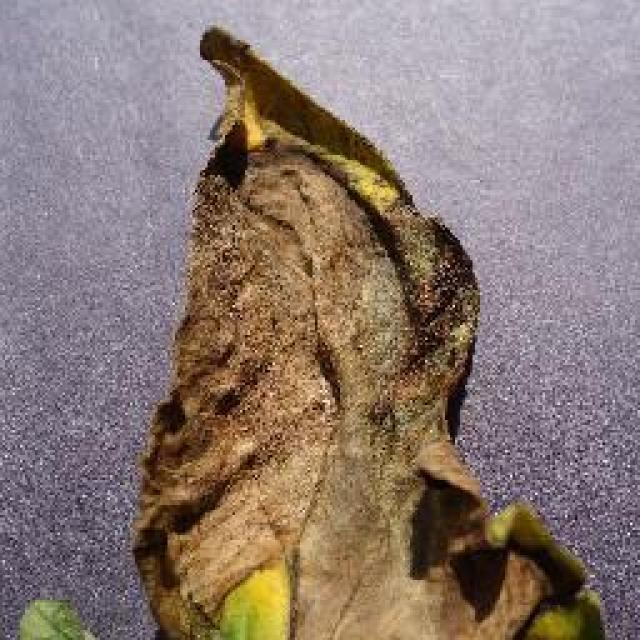Tomato Late Blight: (148, 48, 468, 592)
